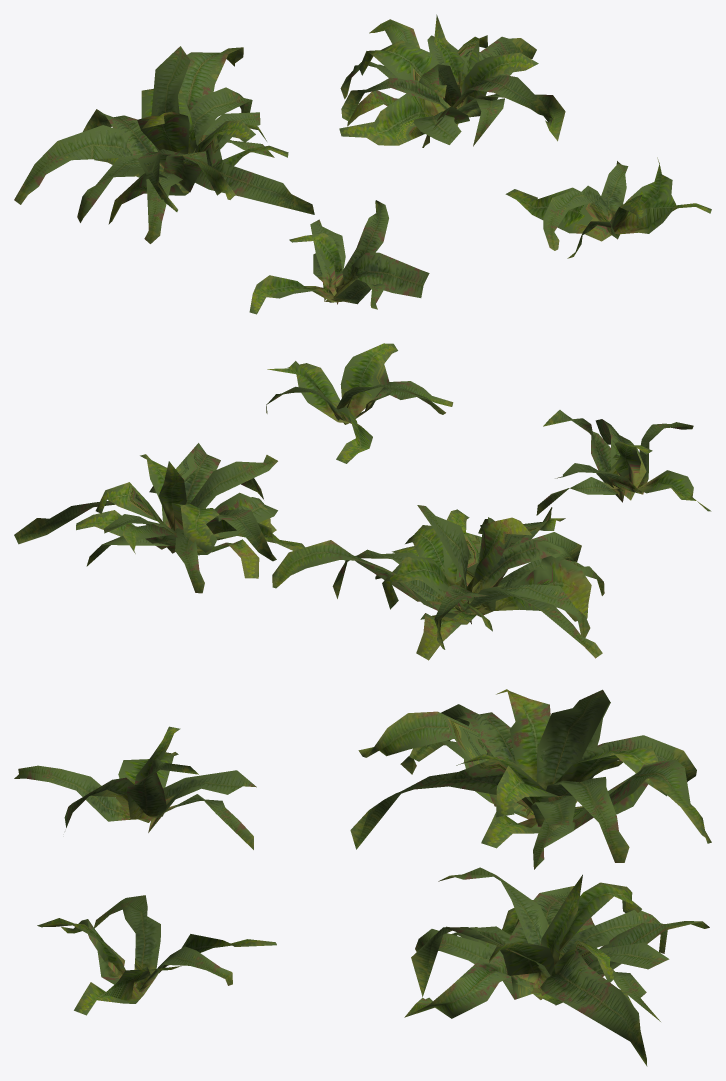
File: fern_small.glb
3 renders of one model, top to bottom at view 1: azimuth 30°, elevation 25°; view 2: azimuth 150°, elevation 25°; view 3: azimuth 270°, elevation 25°, orthographic. The views are drawn at different scales.
Visible parts, largest first — view 1: fern_02_b, fern_02_c, fern_02_a, fern_02_d; view 2: fern_02_b, fern_02_c, fern_02_d, fern_02_a; view 3: fern_02_b, fern_02_c, fern_02_a, fern_02_d.
Part boxes in pixels (x1,y1,x2,y2): fern_02_b: (14, 46, 314, 243); fern_02_c: (339, 14, 565, 147); fern_02_a: (249, 200, 429, 314); fern_02_d: (505, 157, 711, 258); fern_02_b: (272, 505, 604, 660); fern_02_c: (14, 443, 305, 593); fern_02_d: (266, 343, 453, 463); fern_02_a: (536, 410, 711, 515); fern_02_b: (350, 689, 711, 869); fern_02_c: (404, 867, 709, 1066); fern_02_a: (14, 726, 256, 849); fern_02_d: (37, 895, 276, 1015).
Bounding box in the file's own units: 1.96 × 0.4277 × 1.71.
1 material, 1 textured.
